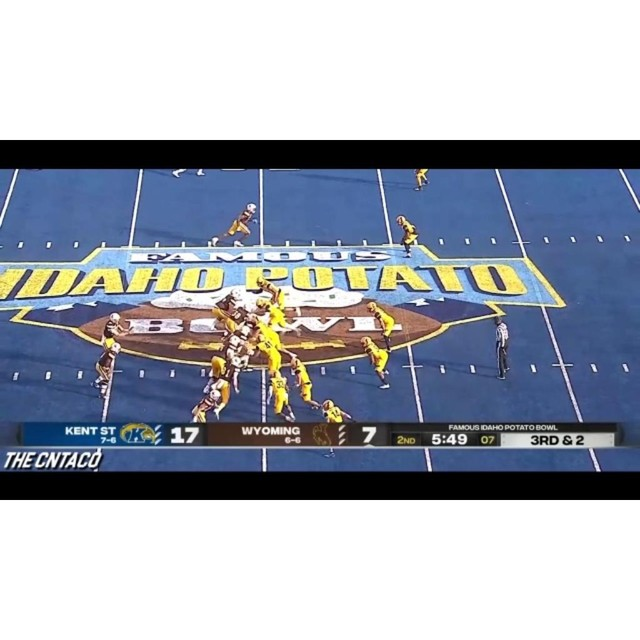american-football-player: (90, 342, 122, 398), (220, 202, 258, 246), (366, 300, 398, 352), (212, 289, 245, 337), (361, 336, 390, 390), (261, 298, 297, 332), (190, 388, 222, 423), (396, 215, 419, 258), (323, 399, 353, 424), (412, 169, 430, 192)
referee: (491, 315, 511, 379)
